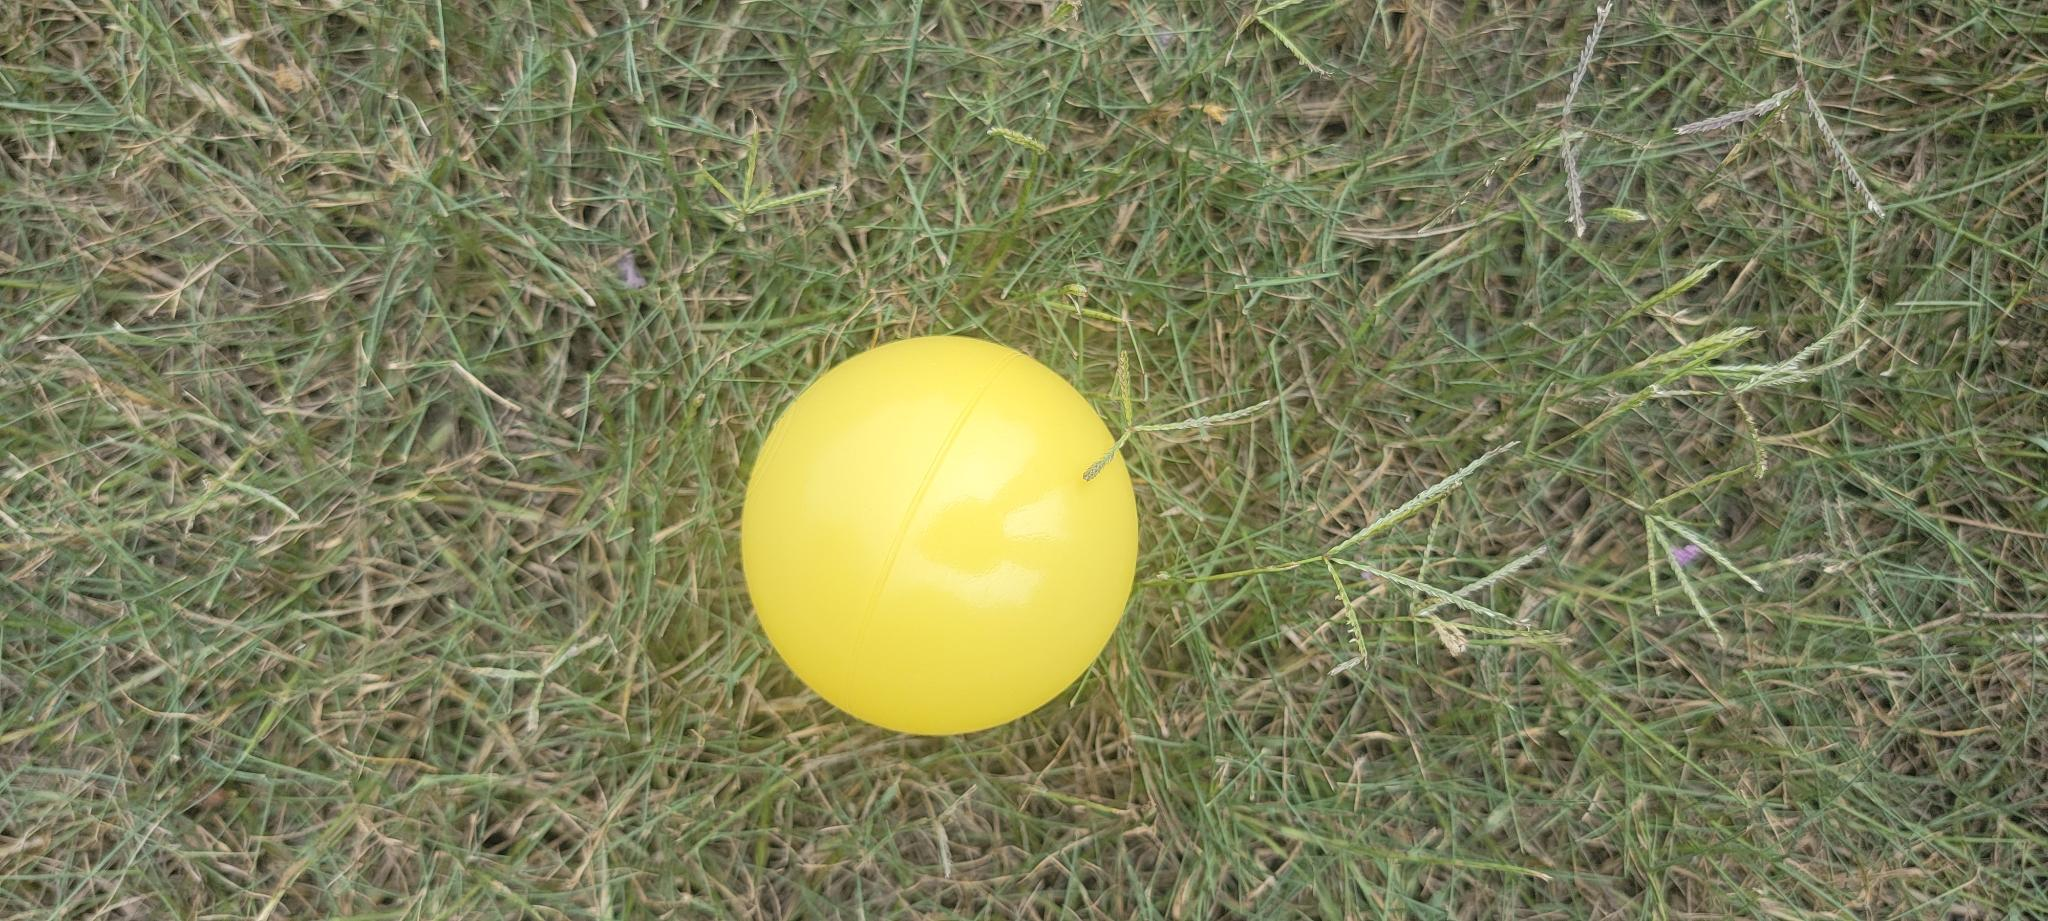Yellow-Ball: (191, 745, 586, 921)
